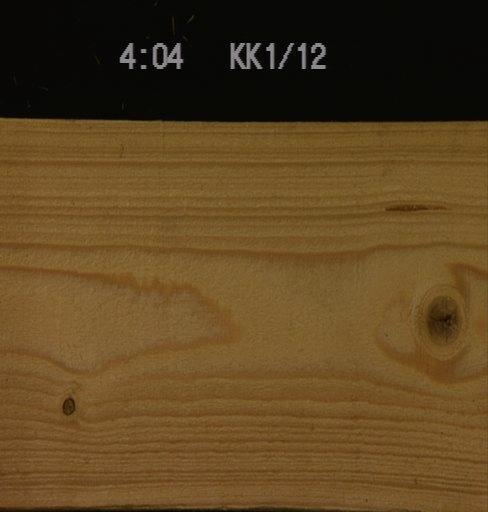dry_knot: (60, 394, 75, 415)
sound_knot: (422, 293, 462, 347)
